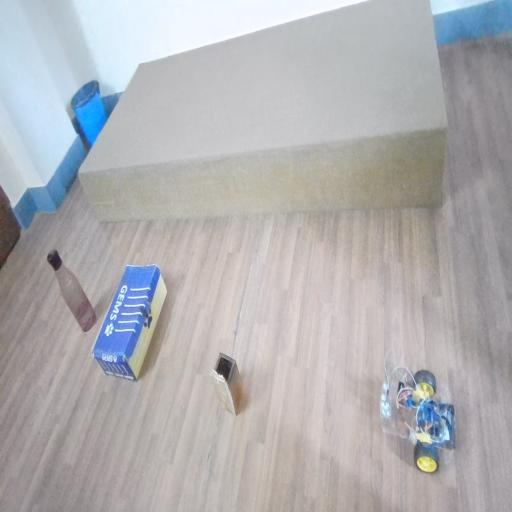Bottle: (42, 240, 105, 333)
car: (378, 345, 464, 478)
